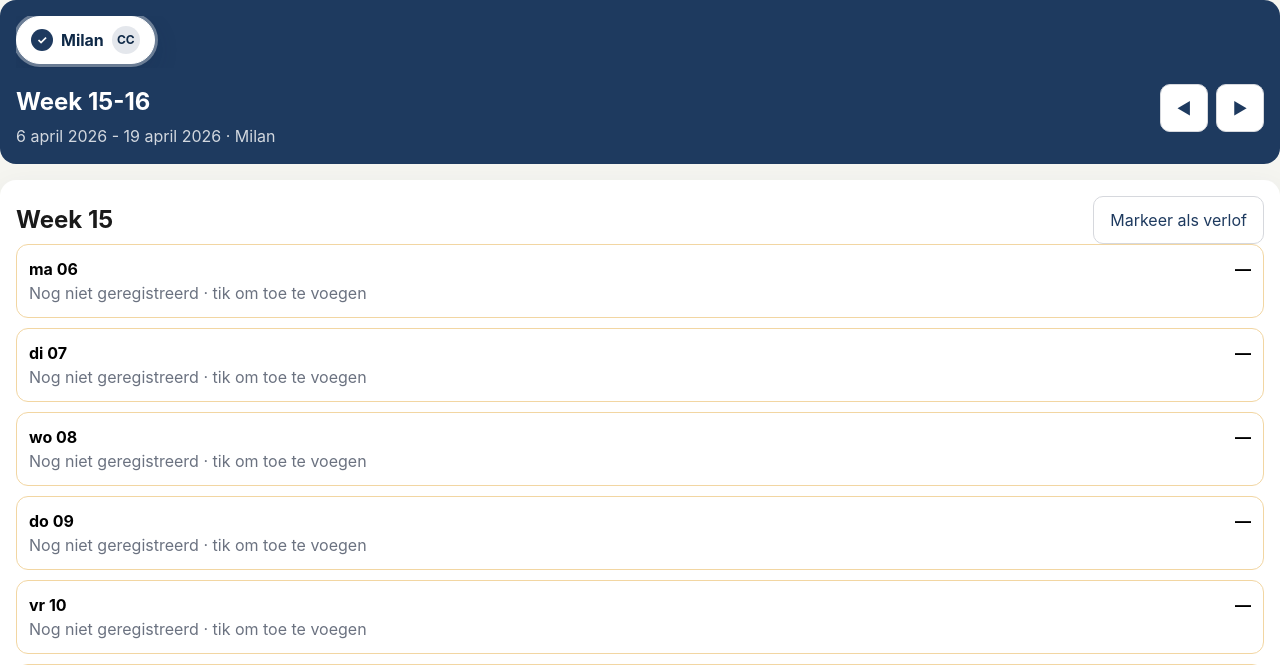
it: WeekPage › skips a fully-leave fortnight when navigating forward
The image size is (1280, 665).
Check: the heading "Week 15-16" is shown, box x1=16 y1=87 x2=150 y2=116
Click the button named "Volgende 2 weken" at (1240, 108), box x1=1216 y1=84 x2=1264 y2=132
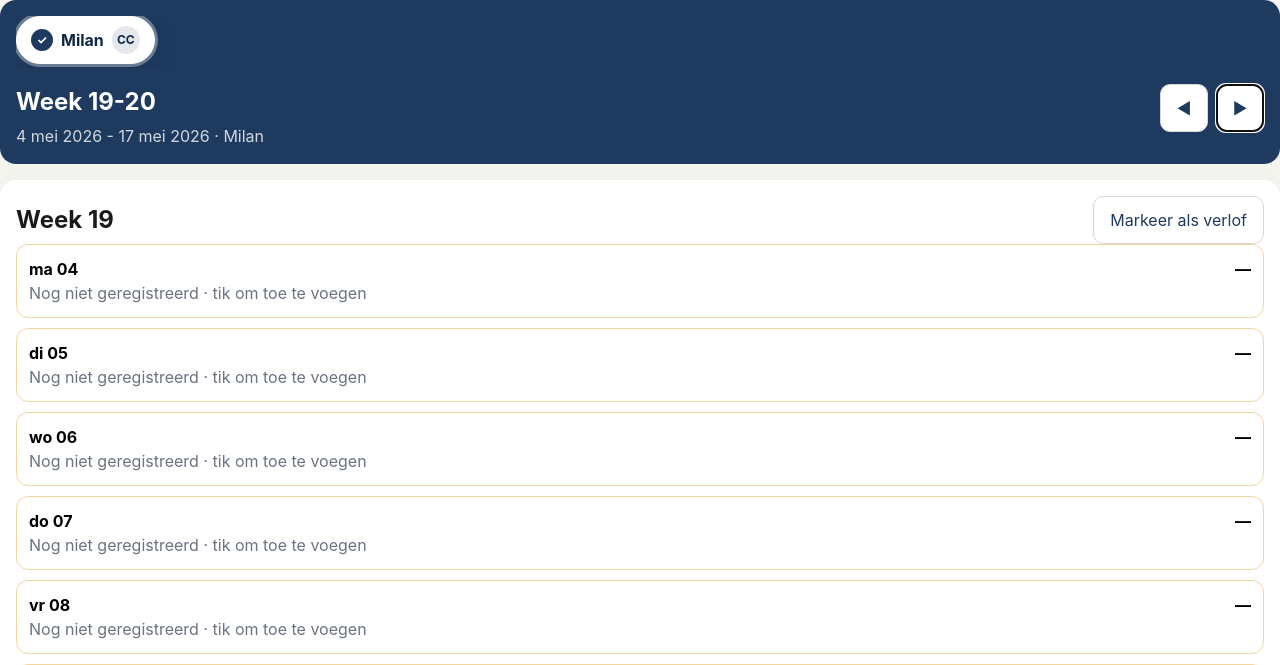
Check: the heading "Week 19-20" is shown, box x1=16 y1=87 x2=156 y2=116
